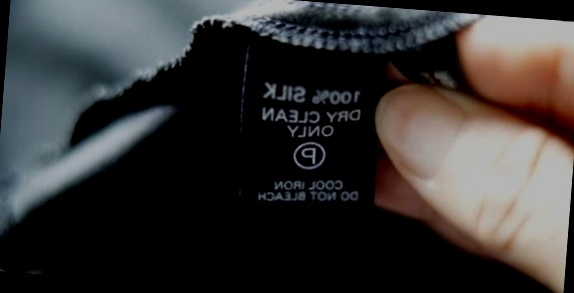dry_clean_any_solvent_except_trichloroethylene: (290, 138, 327, 171)
